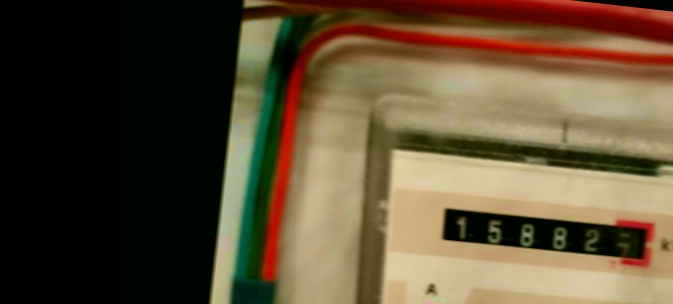1: (452, 216, 469, 243)
2: (582, 229, 599, 254)
5: (484, 219, 503, 247)
7: (614, 240, 630, 261)
8: (516, 224, 535, 251), (549, 226, 567, 253)
screen: (424, 193, 663, 281)
